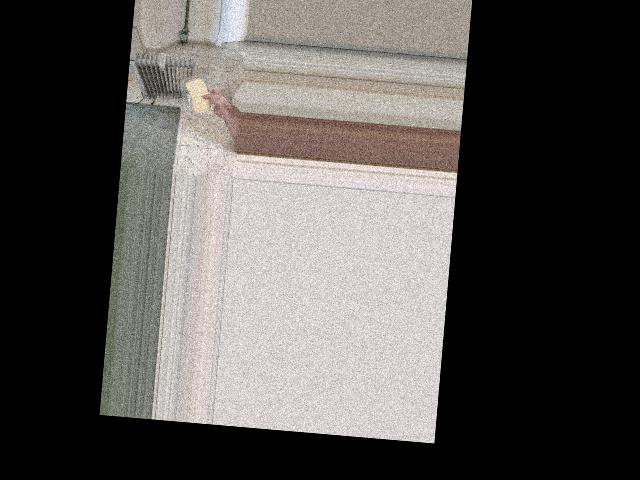cheese: (182, 73, 214, 116)
